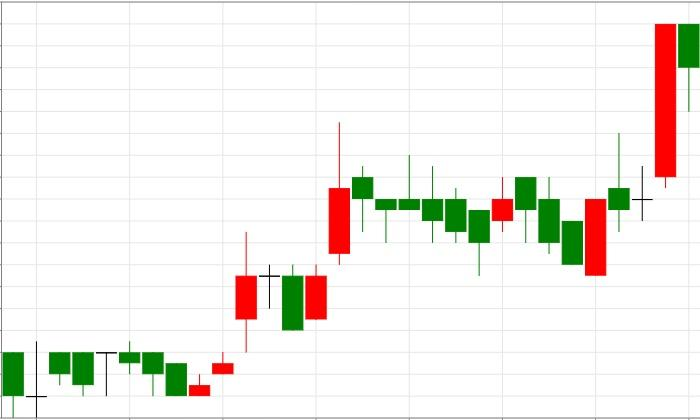bullish_engulfing_rise: (516, 176, 606, 276)
